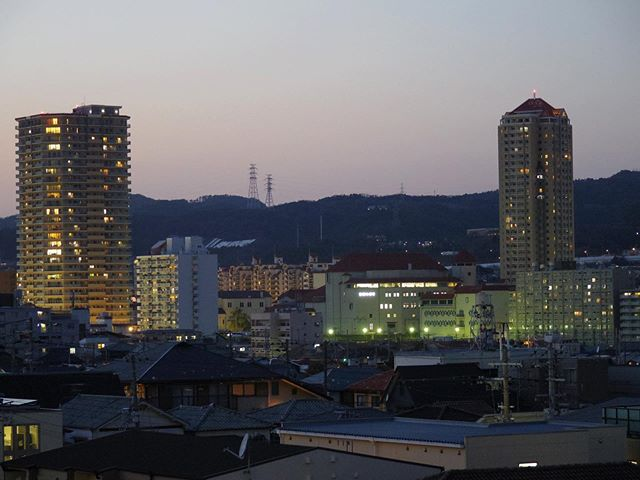building: (7, 105, 132, 315), (498, 96, 573, 300), (94, 338, 283, 413), (323, 251, 479, 336), (516, 265, 613, 342), (131, 253, 217, 329)
sky: (1, 1, 637, 160)
